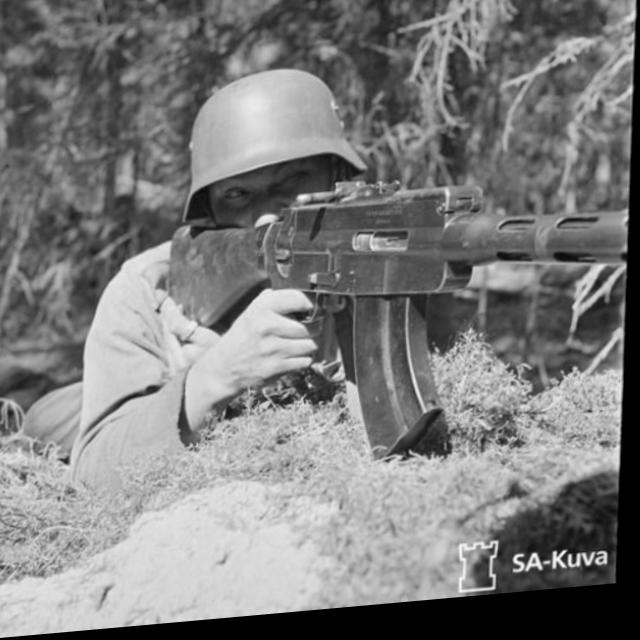other: (37, 67, 370, 493)
